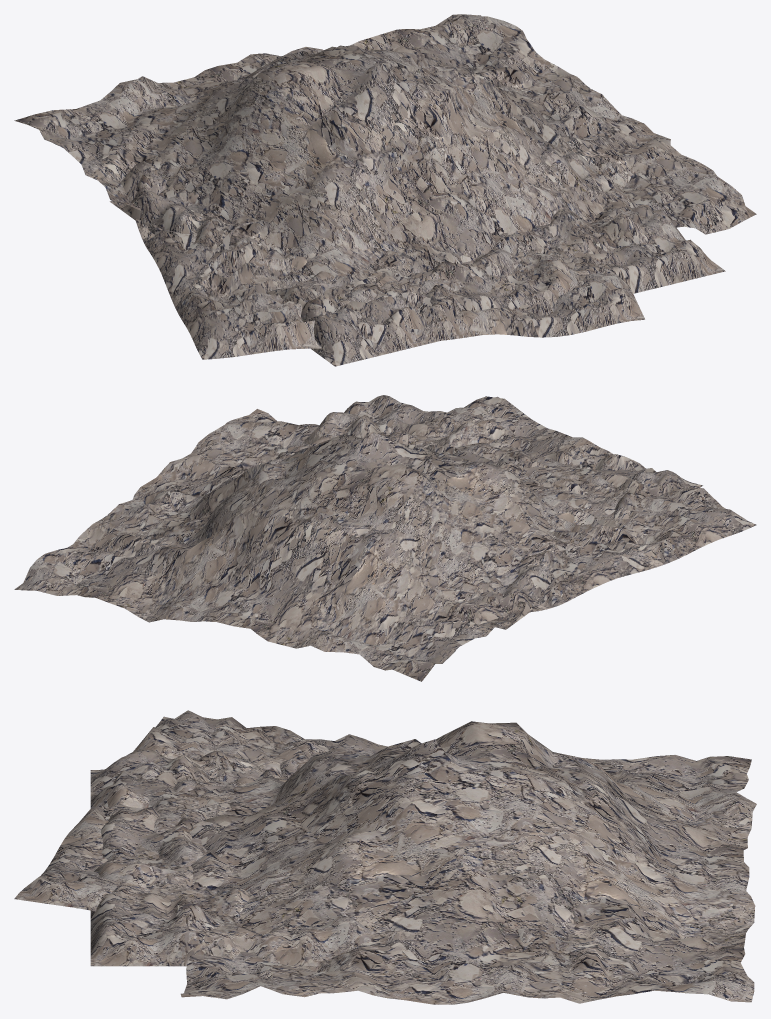
File: RubbleLighter.fbx
3 renders of one model, top to bottom at view 1: azimuth 30°, elevation 25°; view 2: azimuth 150°, elevation 25°; view 3: azimuth 270°, elevation 25°, orthographic. The views are drawn at different scales.
Visible parts, largest first — view 1: RubbleLighter3, RubbleLighter1, RubbleLighter2; view 2: RubbleLighter3, RubbleLighter1, RubbleLighter2; view 3: RubbleLighter3, RubbleLighter2, RubbleLighter1.
Part boxes in pixels (left/top/right/bottom): RubbleLighter3: left=14, top=14, right=756, bottom=289; RubbleLighter1: left=121, top=153, right=644, bottom=359; RubbleLighter2: left=109, top=137, right=725, bottom=366; RubbleLighter3: left=14, top=409, right=616, bottom=681; RubbleLighter1: left=386, top=396, right=756, bottom=624; RubbleLighter2: left=184, top=395, right=702, bottom=629; RubbleLighter3: left=180, top=721, right=756, bottom=1004; RubbleLighter2: left=90, top=749, right=535, bottom=966; RubbleLighter1: left=14, top=710, right=387, bottom=921.
Bounding box in the file's own units: 572 × 133 × 624.
